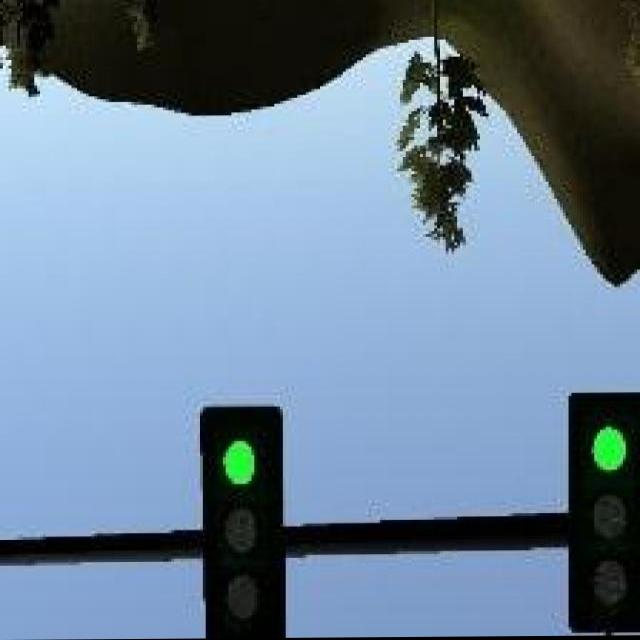green light: (203, 407, 283, 636), (568, 396, 640, 634)
